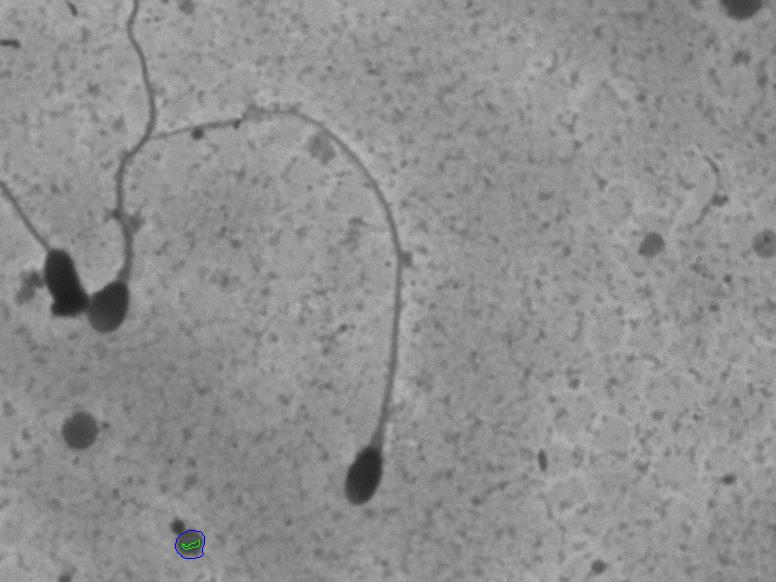Normal: (146, 100, 417, 522), (81, 12, 163, 346)
